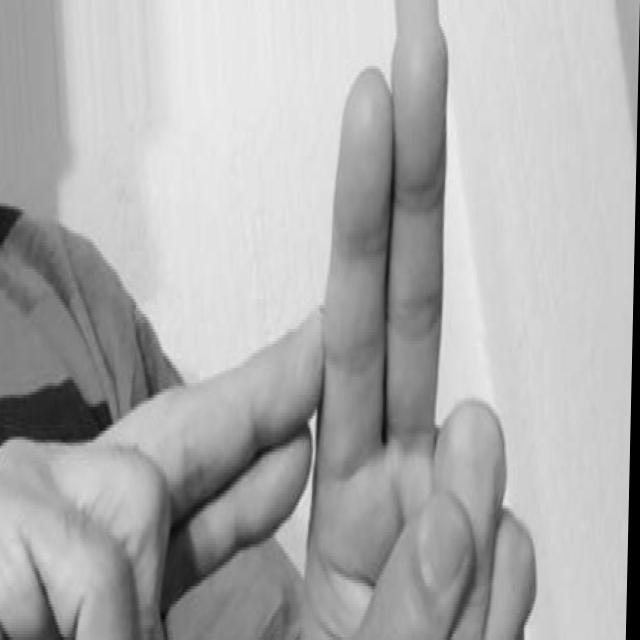K: (0, 27, 553, 640)
